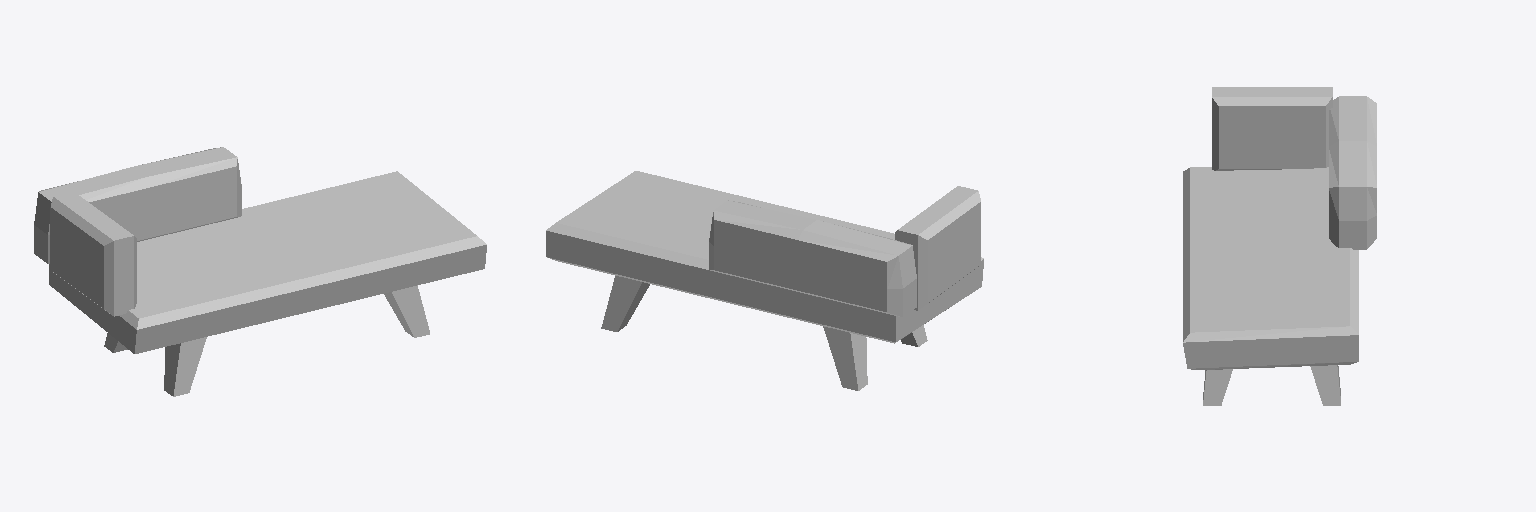
File: couch.obj
3 renders of one model, left to right at view 1: azimuth 30°, elevation 25°; view 2: azimuth 150°, elevation 25°; view 3: azimuth 270°, elevation 25°, orthographic.
Visible parts, largest first — view 1: couch; view 2: couch; view 3: couch.
Part boxes in pixels (left/top/right/bottom): couch: left=34, top=147, right=486, bottom=396; couch: left=546, top=171, right=983, bottom=390; couch: left=1183, top=87, right=1376, bottom=405.
Size of the model in its own units: 2.69 by 1.17 by 1.24.